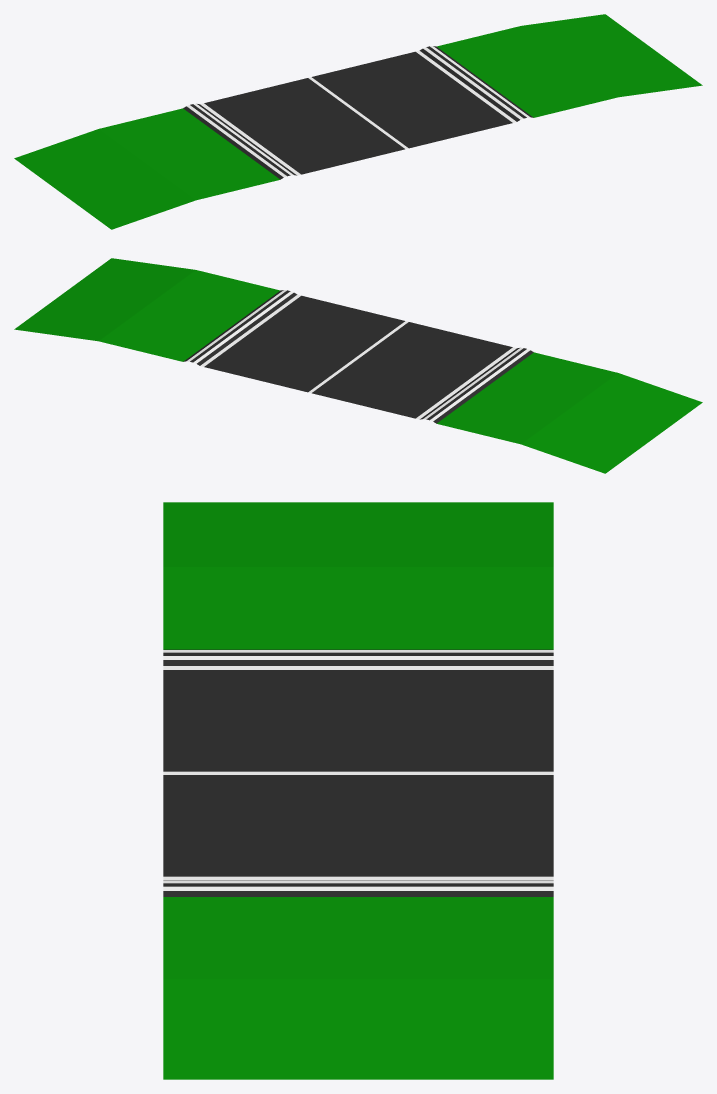
Rendered from Spa.glb.
The picture shows the model from 3 angles, top to bottom: view 1: azimuth 30°, elevation 25°; view 2: azimuth 150°, elevation 25°; view 3: azimuth 270°, elevation 25°; orthographic projection. The views are drawn at different scales.
Visible parts, largest first — view 1: Track; view 2: Track; view 3: Track.
Part boxes in pixels (bbox=[...]): Track: bbox=[14, 14, 702, 229]; Track: bbox=[14, 258, 702, 473]; Track: bbox=[163, 502, 553, 1079].
Size of the model in its own units: 35 by 0.603 by 10.
